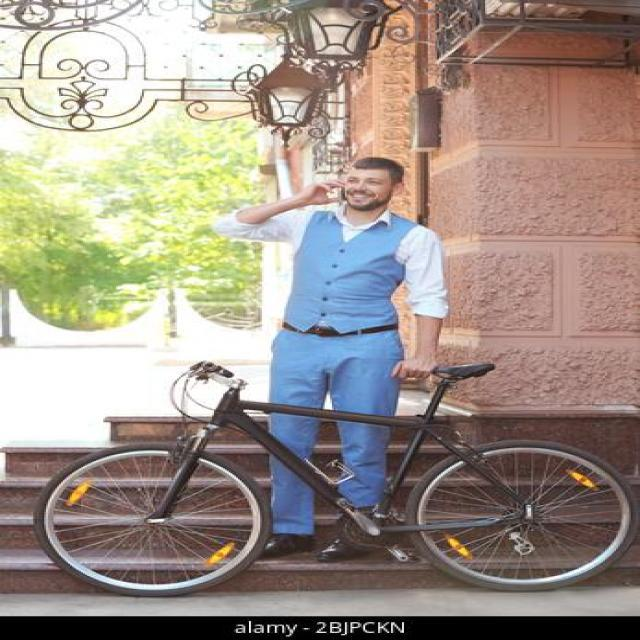Using mobile: (262, 135, 427, 287)
